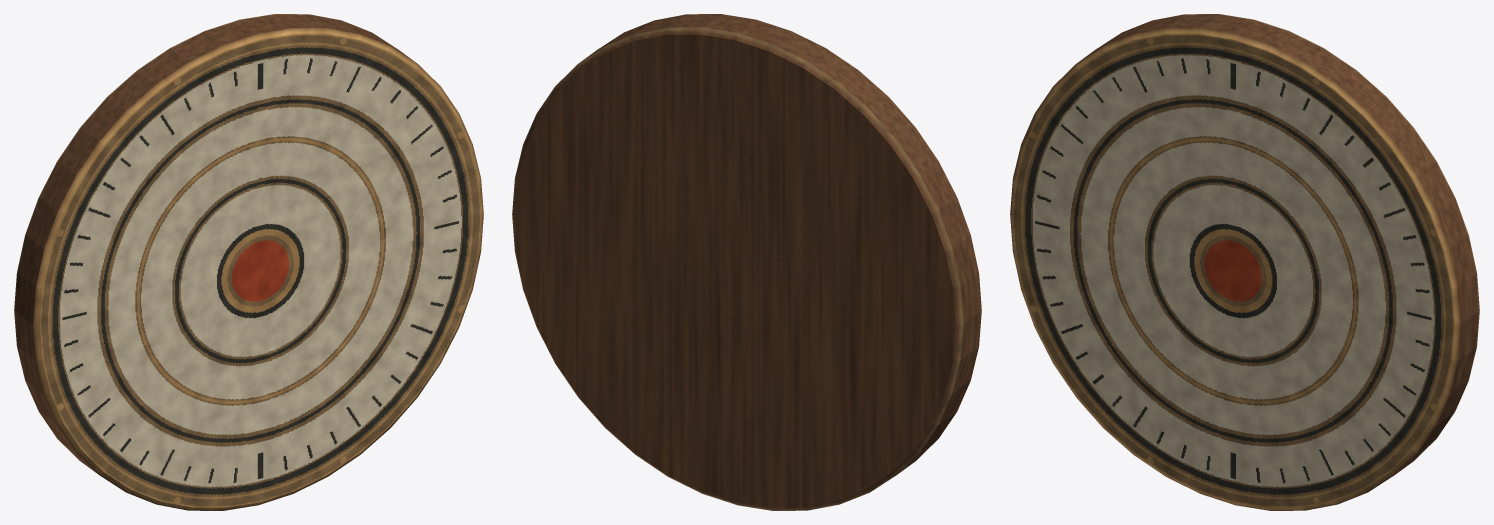
File: TargetGaugeFace.fbx
3 views of the same model, side by side, from view 1: azimuth 30°, elevation 25°; view 2: azimuth 150°, elevation 25°; view 3: azimuth 330°, elevation 25° (orthographic).
Visible parts, largest first — view 1: TargetGaugeFace; view 2: TargetGaugeFace; view 3: TargetGaugeFace.
Part boxes in pixels (left/top/right/bottom): TargetGaugeFace: left=14, top=14, right=483, bottom=510; TargetGaugeFace: left=512, top=14, right=981, bottom=510; TargetGaugeFace: left=1010, top=14, right=1479, bottom=510.
Bounding box in the file's own units: 0.615 × 0.615 × 0.056.
